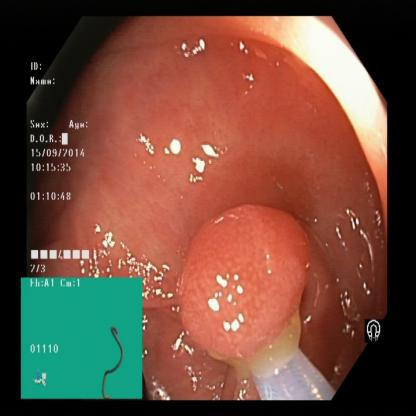Labels: (27, 56, 102, 274), (20, 277, 142, 401), (358, 308, 387, 351)
Polyps: (168, 210, 322, 344)
